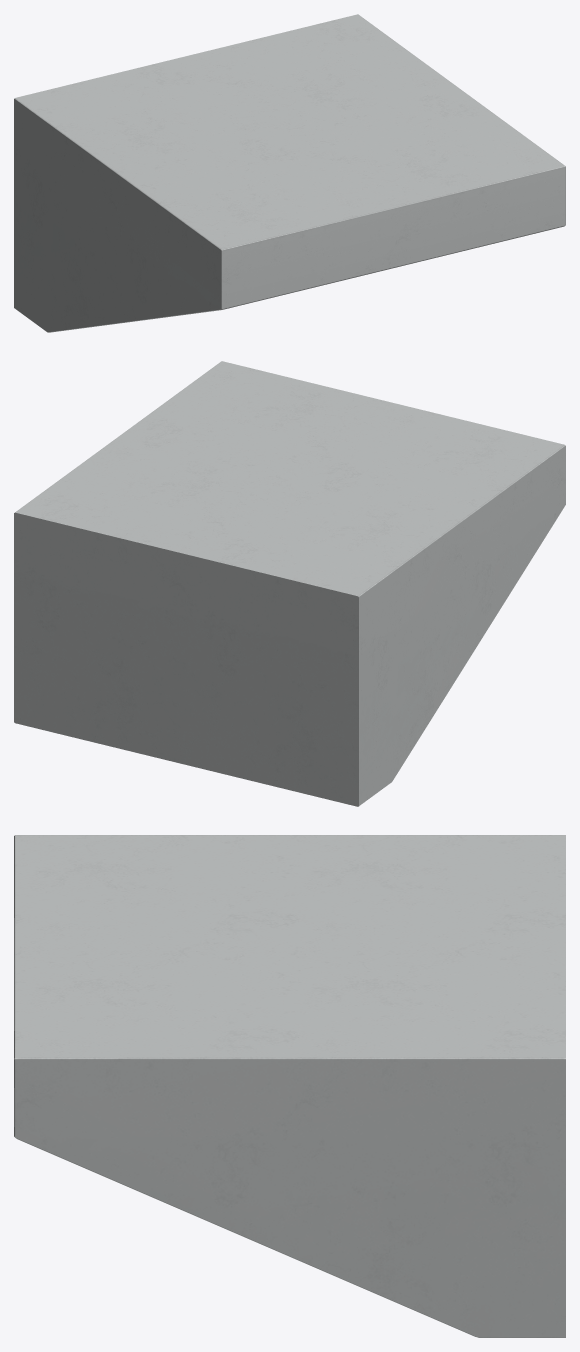
Rendered from CookerHood_01 1.FBX.
3 renders of one model, top to bottom at view 1: azimuth 30°, elevation 25°; view 2: azimuth 150°, elevation 25°; view 3: azimuth 270°, elevation 25°, orthographic. The views are drawn at different scales.
Visible parts, largest first — view 1: CookerHood_01; view 2: CookerHood_01; view 3: CookerHood_01.
Boxes of the visible parts, box(x1,y1,x2,y2) form: CookerHood_01: box(14, 14, 565, 332); CookerHood_01: box(14, 361, 565, 806); CookerHood_01: box(14, 835, 565, 1337).
Bounding box in the file's own units: 120 × 70 × 125.
Materials: 1 (1 with a texture image).
